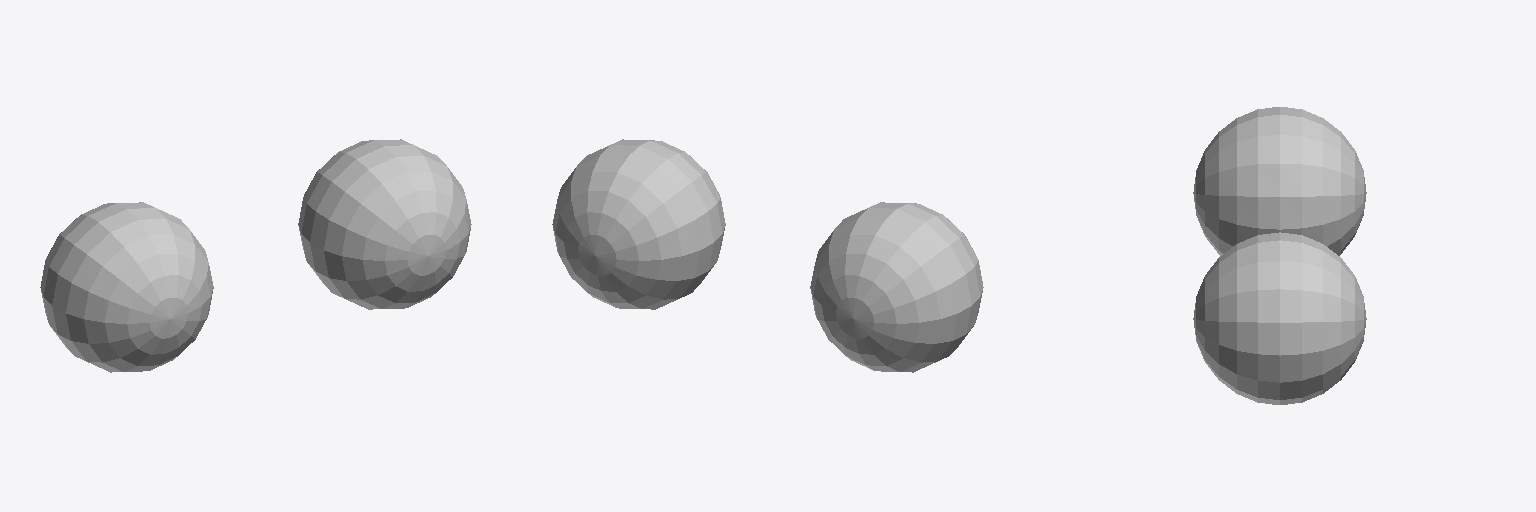
The model's file is Eyes.obj.
3 renders of one model, left to right at view 1: azimuth 30°, elevation 25°; view 2: azimuth 150°, elevation 25°; view 3: azimuth 270°, elevation 25°, orthographic.
Parts seen in each view (by area): view 1: Eyes; view 2: Eyes; view 3: Eyes.
Boxes of the visible parts, box(x1,y1,x2,y2) form: Eyes: box(40, 139, 471, 372); Eyes: box(552, 139, 983, 372); Eyes: box(1193, 107, 1366, 404).
Size of the model in its own units: 61.65 by 22.68 by 22.68.